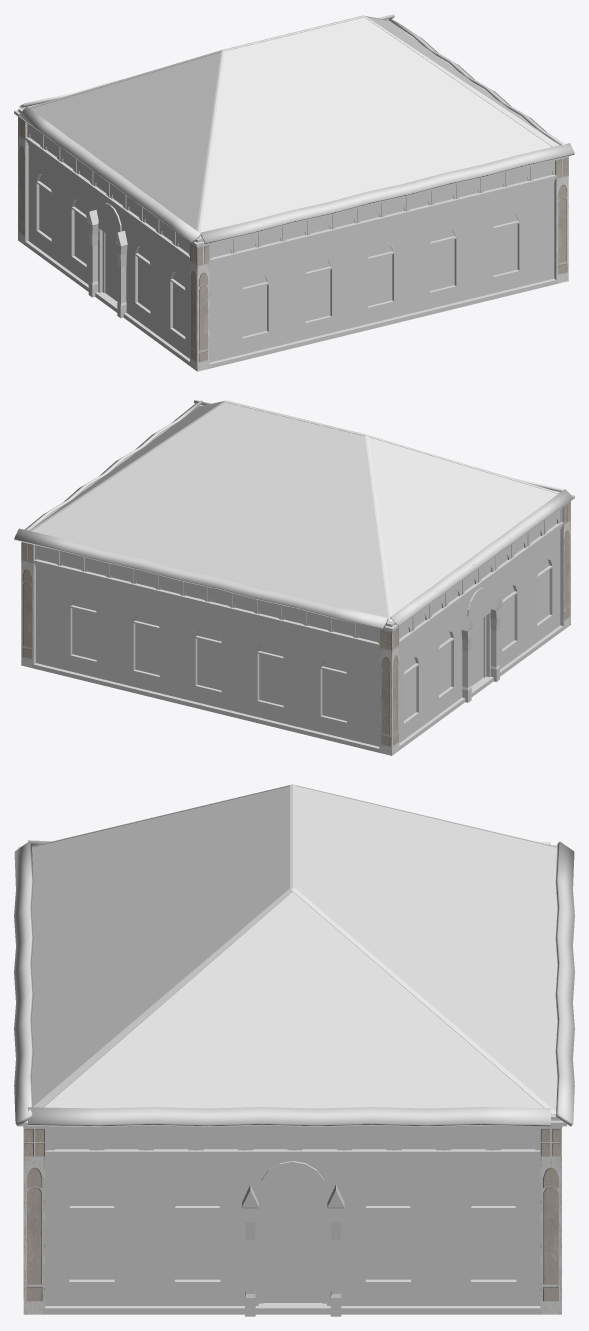
Rendered from Intendencia_18xx.fbx.
The picture shows the model from 3 angles, top to bottom: view 1: azimuth 30°, elevation 25°; view 2: azimuth 150°, elevation 25°; view 3: azimuth 270°, elevation 25°; orthographic projection. The views are drawn at different scales.
Parts seen in each view (by area): view 1: Intendencia_Telhado, Intendencia_LOD0, Intendencia_Janelas, Intendencia_Telhado.001, Intendencia_Portas; view 2: Intendencia_Telhado, Intendencia_LOD0, Intendencia_Janelas, Intendencia_Telhado.001, Intendencia_Portas; view 3: Intendencia_Telhado, Intendencia_LOD0, Intendencia_Telhado.001, Intendencia_Janelas, Intendencia_Portas.
Boxes of the visible parts, <box> form: Intendencia_Telhado: <box>23,15,559,237</box>; Intendencia_LOD0: <box>14,19,571,371</box>; Intendencia_Janelas: <box>36,172,520,340</box>; Intendencia_Telhado.001: <box>18,14,574,244</box>; Intendencia_Portas: <box>102,231,117,301</box>; Intendencia_Telhado: <box>30,400,559,622</box>; Intendencia_LOD0: <box>21,405,574,755</box>; Intendencia_Janelas: <box>69,557,552,724</box>; Intendencia_Telhado.001: <box>14,400,573,629</box>; Intendencia_Portas: <box>470,616,486,686</box>; Intendencia_Telhado: <box>31,784,557,1115</box>; Intendencia_LOD0: <box>18,845,566,1316</box>; Intendencia_Telhado.001: <box>14,840,574,1126</box>; Intendencia_Janelas: <box>67,1187,517,1283</box>; Intendencia_Portas: <box>258,1208,326,1303</box>.
Size of what is drawn, in the model's own units: 1568 by 894 by 1329.
